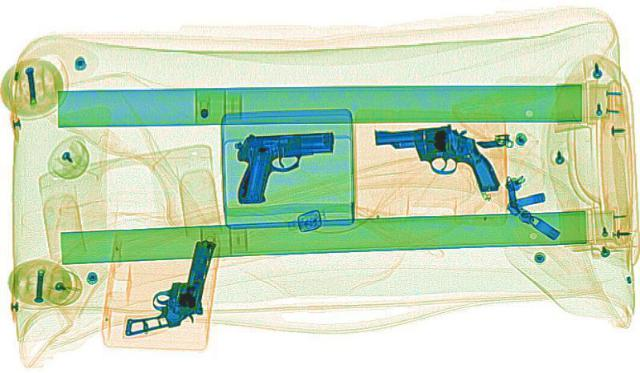Gun: (366, 113, 504, 202), (122, 236, 214, 338), (237, 131, 333, 202)
